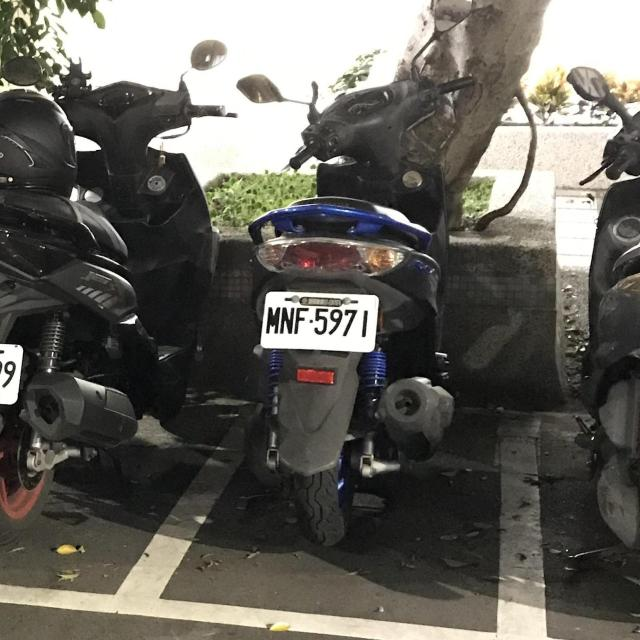W: (256, 286, 382, 358), (0, 333, 26, 408)
